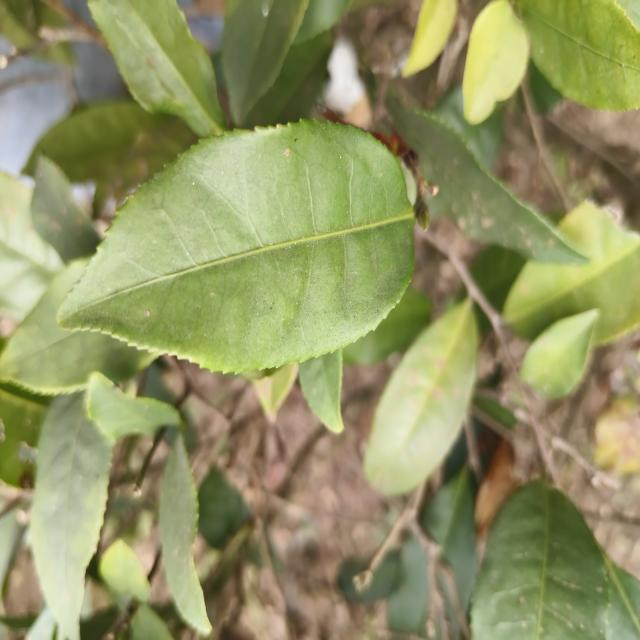Leaf: (58, 120, 414, 372), (387, 97, 586, 264), (364, 300, 478, 495), (471, 481, 608, 640), (0, 258, 157, 395), (30, 392, 114, 640), (23, 100, 197, 215), (502, 202, 640, 345), (89, 0, 226, 137), (517, 0, 640, 111), (222, 0, 308, 124), (159, 435, 212, 635), (0, 170, 64, 322), (237, 31, 333, 128), (420, 468, 478, 610), (463, 0, 529, 124), (31, 156, 100, 262), (520, 309, 599, 399), (343, 288, 432, 364), (87, 372, 180, 439), (387, 535, 430, 640), (402, 0, 458, 77), (299, 350, 344, 433), (99, 539, 150, 602), (438, 575, 455, 615)
